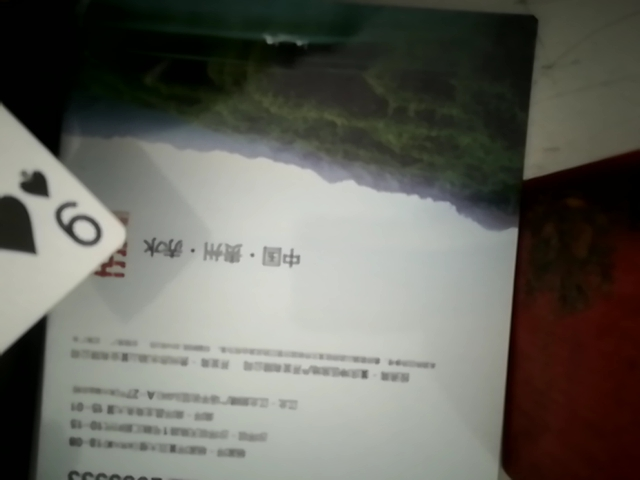ht 9: (0, 11, 136, 448)
